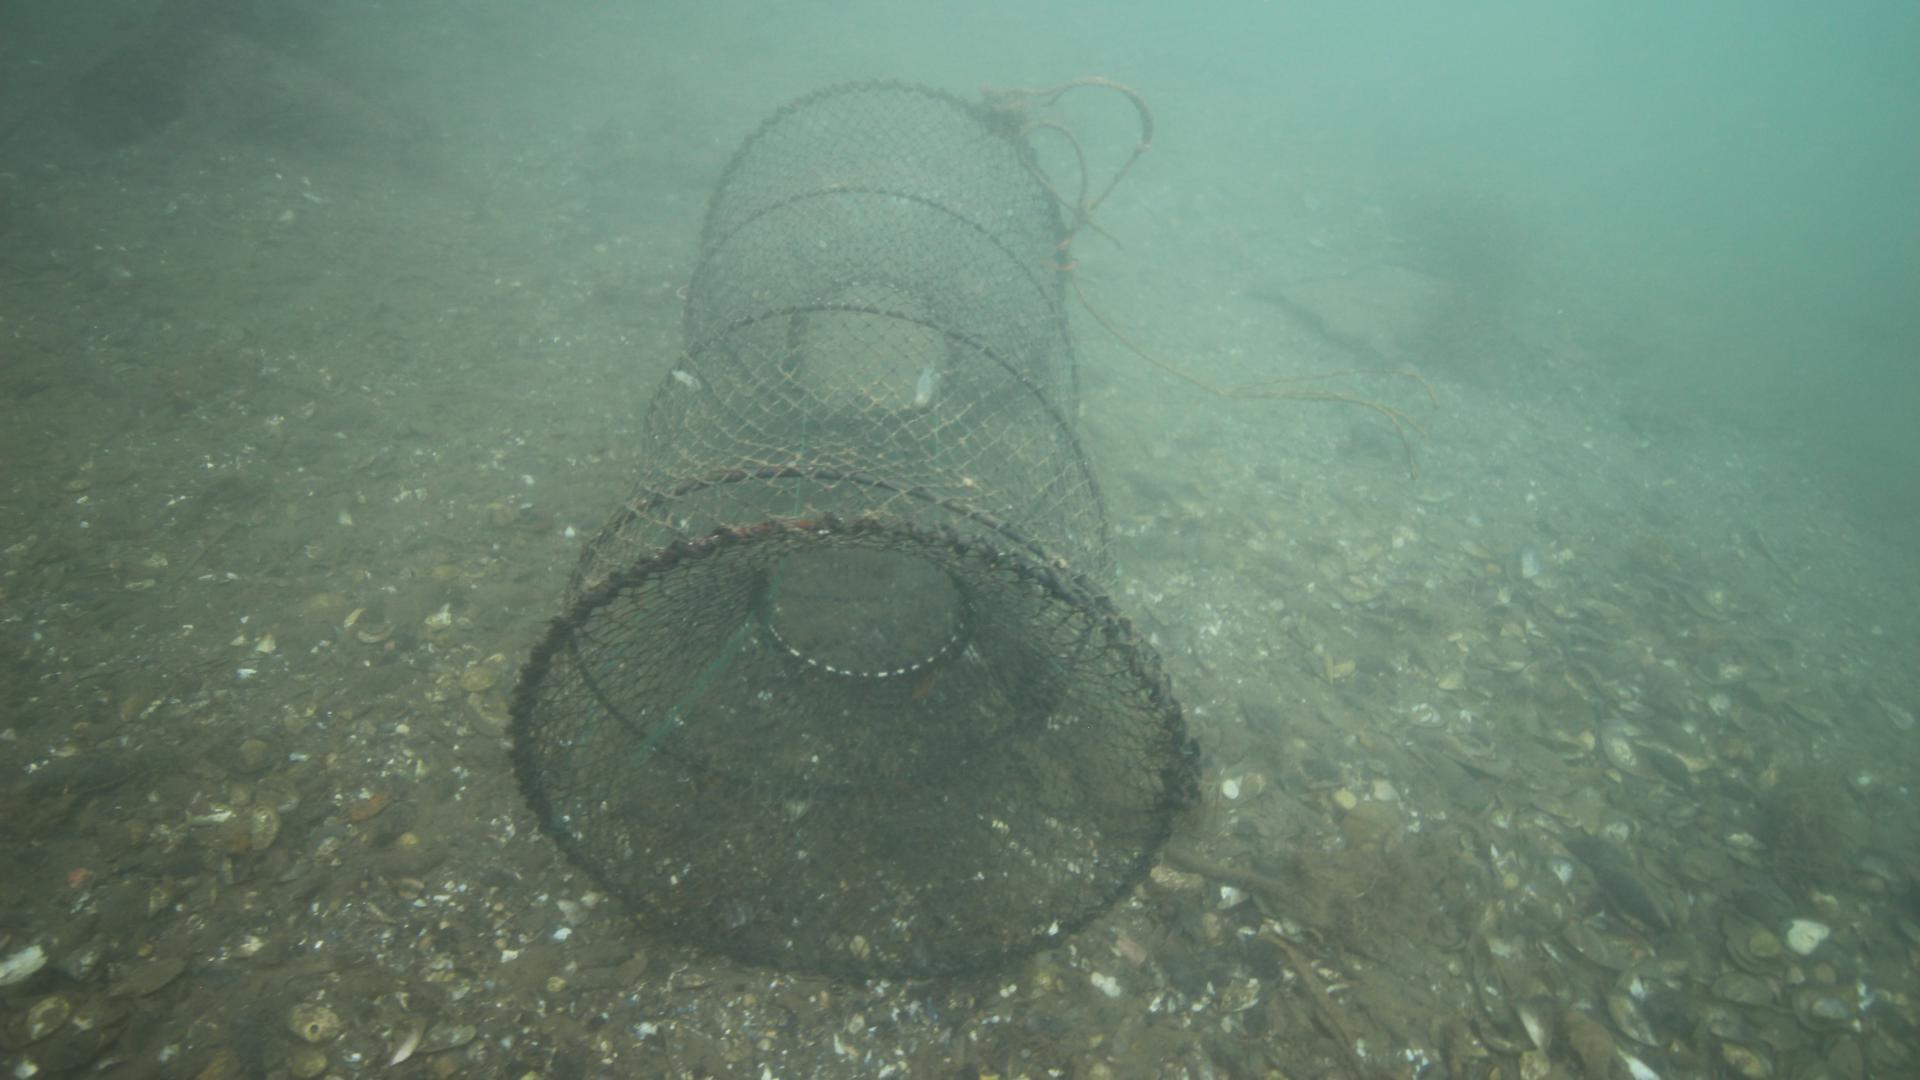bundle of ropes: (990, 69, 1154, 224)
spring fish trap: (498, 75, 1201, 984)
